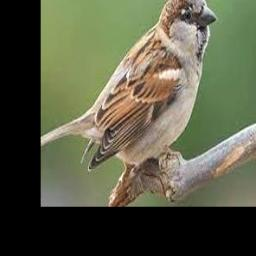Sparrow: (41, 0, 217, 172)
